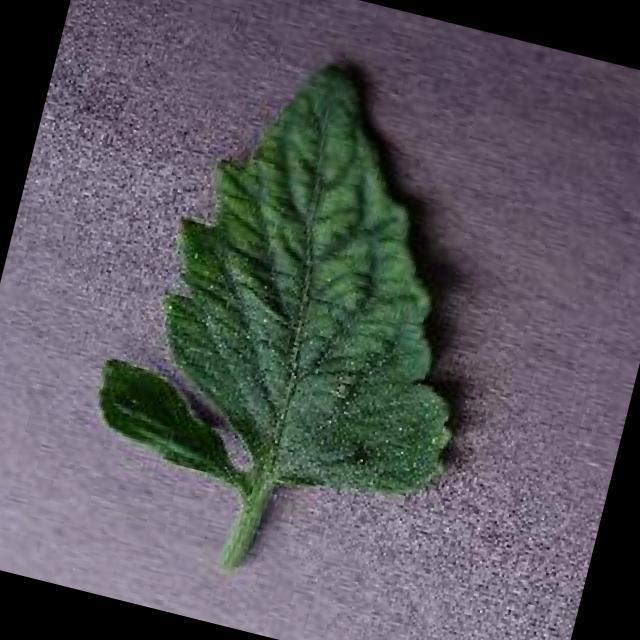Tomato mosaic virus leaf: (80, 20, 540, 538)
